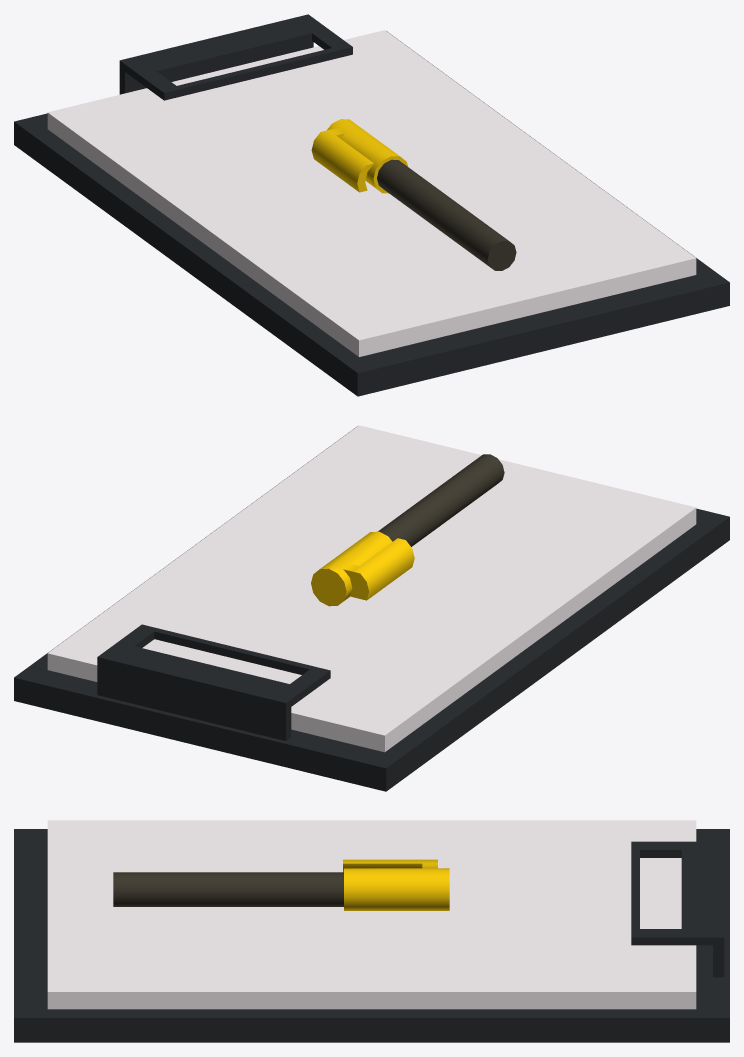
Rendered from Doc_Pen.fbx.
3 views of the same model, one above another, from view 1: azimuth 30°, elevation 25°; view 2: azimuth 150°, elevation 25°; view 3: azimuth 270°, elevation 25° (orthographic). The views are drawn at different scales.
Parts seen in each view (by area): view 1: Doc_Pen; view 2: Doc_Pen; view 3: Doc_Pen.
Part boxes in pixels (box(x1,y1,x2,y2)): Doc_Pen: box(14, 14, 729, 396); Doc_Pen: box(14, 425, 729, 791); Doc_Pen: box(14, 820, 729, 1042).
Bounding box in the file's own units: 85.08 × 16.95 × 136.
